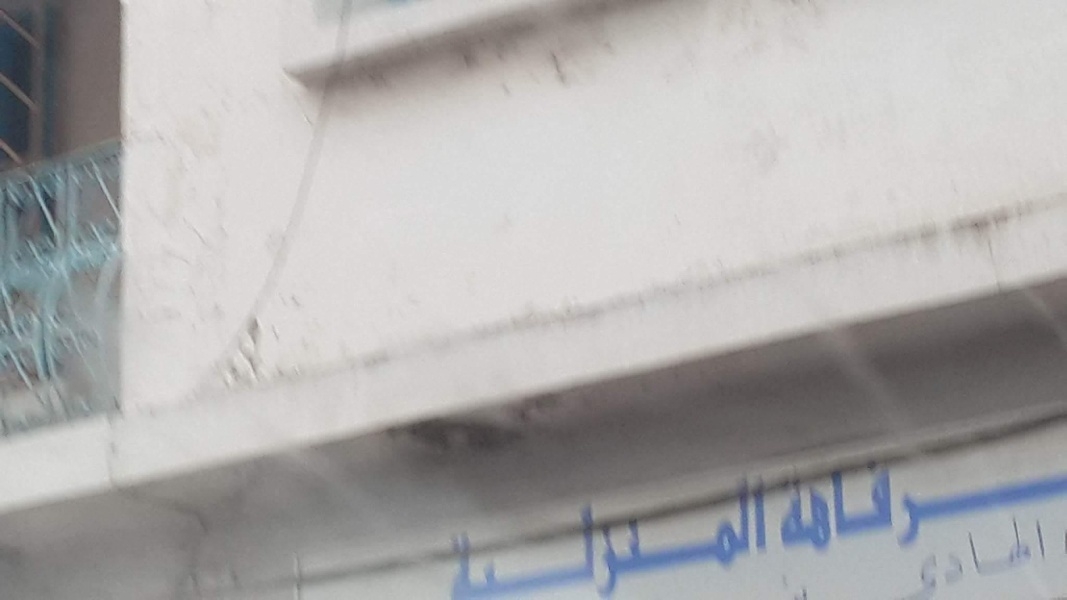text: (433, 465, 448, 599), (449, 465, 464, 599), (465, 465, 480, 599), (481, 465, 496, 599), (497, 465, 512, 599), (513, 465, 528, 599), (529, 465, 544, 599), (545, 465, 560, 599), (561, 465, 576, 599), (577, 465, 592, 599), (593, 465, 608, 599), (609, 465, 624, 599), (625, 465, 640, 599), (641, 465, 656, 599), (657, 465, 672, 599), (673, 465, 688, 599), (689, 465, 704, 599), (705, 465, 720, 599), (721, 465, 736, 599), (737, 465, 752, 599), (753, 465, 768, 599), (785, 445, 800, 577), (801, 445, 816, 577), (817, 445, 832, 577), (833, 445, 848, 577), (849, 445, 864, 577), (865, 445, 880, 577), (881, 445, 896, 577), (897, 445, 912, 577), (913, 445, 928, 577), (773, 445, 784, 577), (801, 504, 816, 599), (817, 504, 832, 599), (833, 504, 848, 599), (849, 504, 864, 599), (865, 504, 880, 599), (881, 504, 896, 599), (897, 504, 912, 599), (913, 504, 928, 599), (929, 504, 944, 599), (945, 504, 960, 599), (961, 504, 976, 599), (977, 504, 992, 599), (993, 504, 1008, 599), (1009, 504, 1024, 599), (1025, 504, 1040, 599), (929, 445, 939, 577), (769, 465, 776, 599), (791, 504, 800, 599), (1041, 504, 1050, 599), (428, 465, 432, 599)
